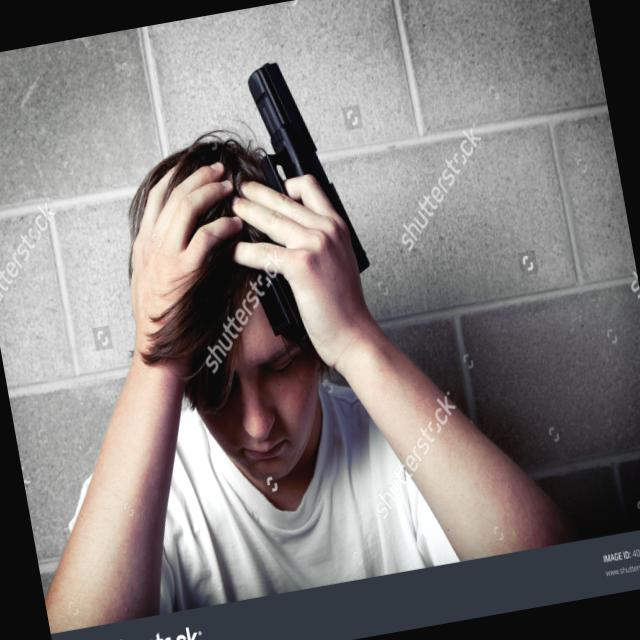handgun: (216, 42, 372, 349)
